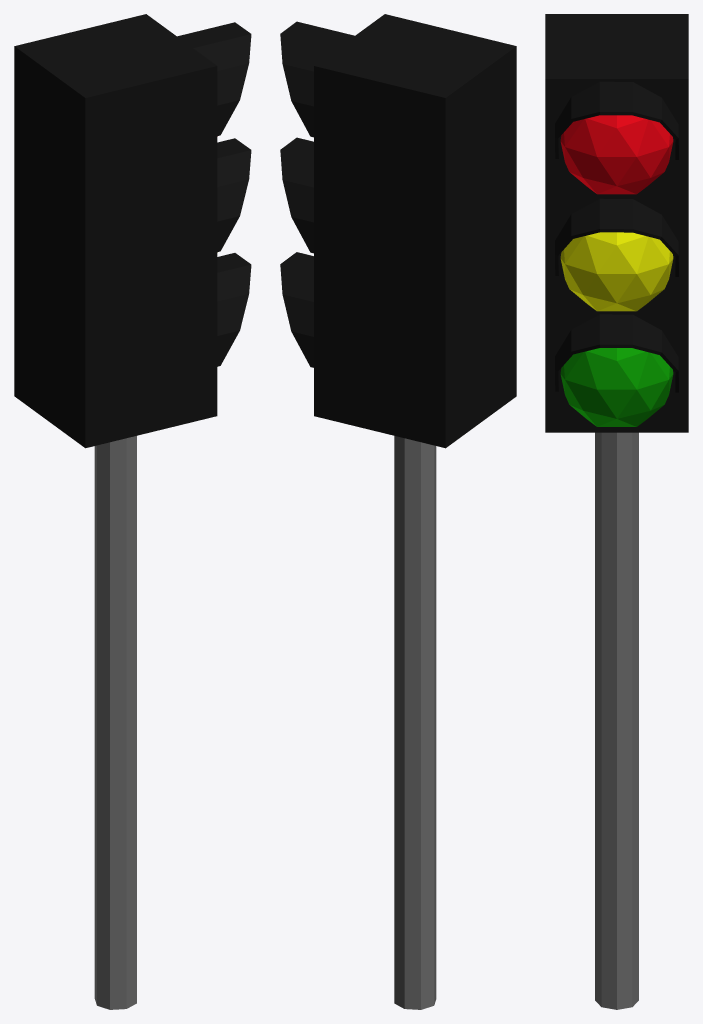
Rendered from FeuCirculation.fbx.
3 views of the same model, side by side, from view 1: azimuth 30°, elevation 25°; view 2: azimuth 150°, elevation 25°; view 3: azimuth 270°, elevation 25° (orthographic).
Visible parts, largest first — view 1: Lumiere, Poteau, CouvertRouge, CouvertJaune, CouvertVert; view 2: Lumiere, Poteau, CouvertRouge, CouvertJaune, CouvertVert; view 3: Lumiere, Poteau, FeuJaune, FeuRouge, FeuVert, CouvertRouge, CouvertJaune, CouvertVert.
Part boxes in pixels (bbox=[...]): Lumiere: bbox=[14, 14, 217, 448]; Poteau: bbox=[94, 436, 136, 1009]; CouvertRouge: bbox=[177, 22, 251, 135]; CouvertJaune: bbox=[217, 138, 251, 251]; CouvertVert: bbox=[217, 253, 251, 366]; Lumiere: bbox=[314, 14, 516, 448]; Poteau: bbox=[394, 436, 436, 1009]; CouvertRouge: bbox=[280, 21, 354, 137]; CouvertJaune: bbox=[280, 137, 313, 253]; CouvertVert: bbox=[280, 252, 313, 367]; Lumiere: bbox=[545, 14, 688, 432]; Poteau: bbox=[595, 432, 638, 1009]; FeuJaune: bbox=[560, 232, 673, 311]; FeuRouge: bbox=[560, 115, 673, 194]; FeuVert: bbox=[560, 348, 673, 426]; CouvertRouge: bbox=[555, 81, 678, 159]; CouvertJaune: bbox=[555, 198, 678, 276]; CouvertVert: bbox=[555, 314, 678, 392].
Bounding box in the file's own units: 83.09 × 389 × 52.89.
